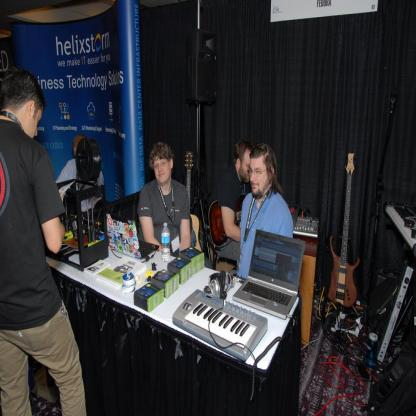board: (232, 225, 305, 321), (106, 212, 158, 262)
